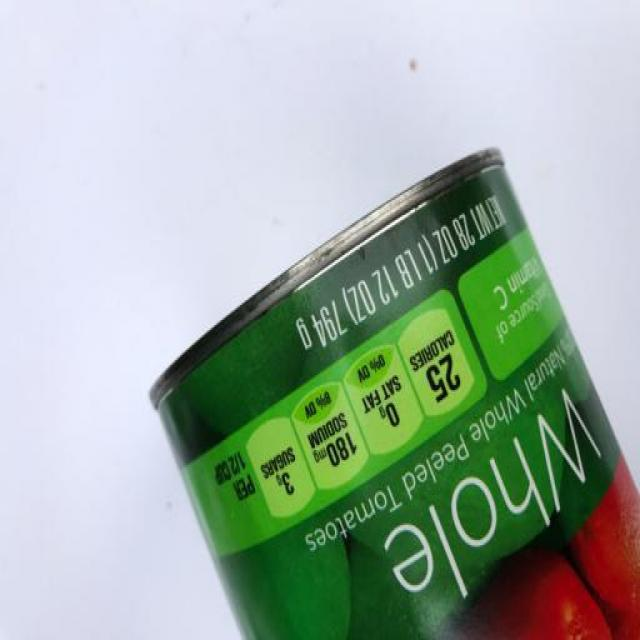metel: (150, 114, 640, 640)
